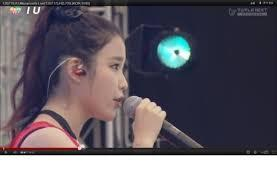earphone: (74, 67, 85, 76)
